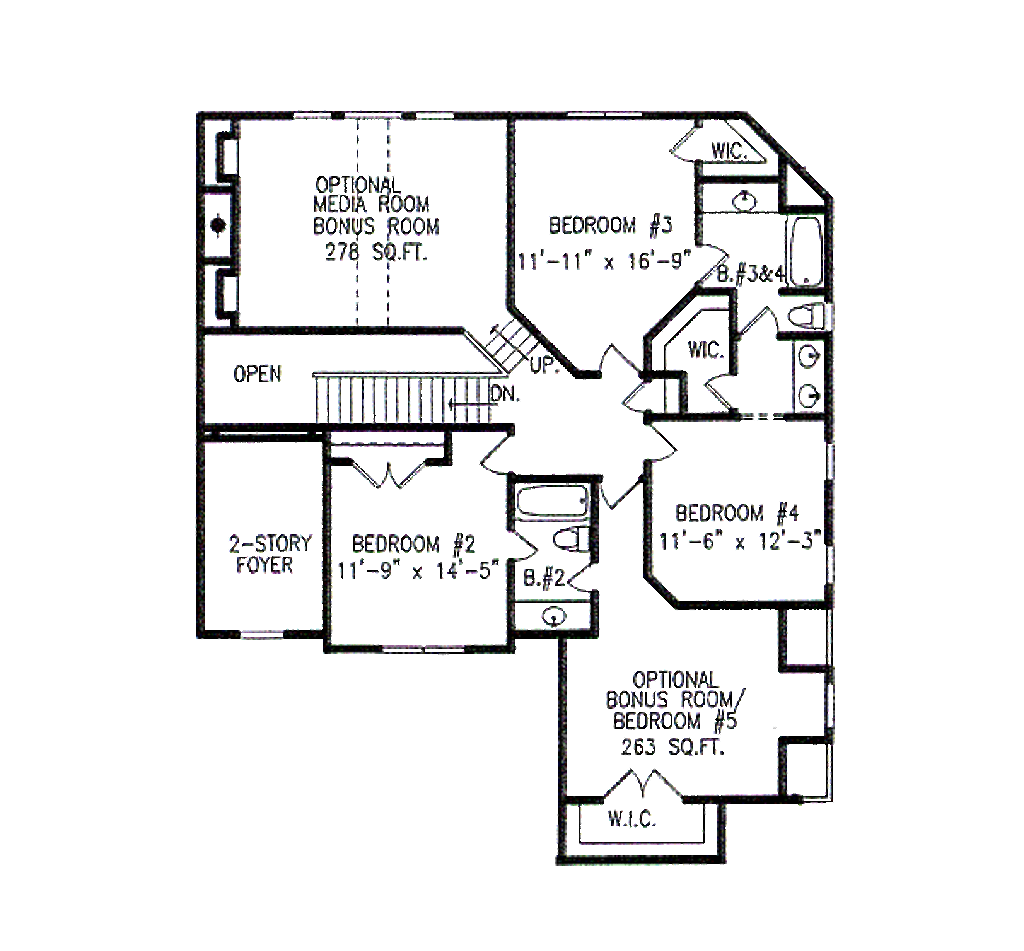door: (591, 761, 685, 807), (347, 459, 427, 490), (640, 423, 690, 466), (595, 474, 648, 513), (472, 431, 520, 473), (595, 338, 641, 379), (689, 243, 729, 287), (664, 125, 706, 160), (505, 524, 542, 563), (706, 364, 737, 409), (565, 561, 601, 597), (741, 306, 779, 338), (621, 374, 650, 415)
large_sink: (780, 290, 832, 332), (549, 518, 596, 562)
small_sink: (704, 183, 783, 217), (788, 340, 825, 409), (510, 607, 596, 632)
stairs: (306, 362, 518, 432), (456, 298, 551, 376)
tub: (783, 214, 830, 289), (507, 481, 591, 519)
window: (808, 534, 844, 587), (816, 672, 843, 735), (569, 105, 645, 126), (372, 640, 467, 656), (820, 443, 842, 485), (240, 627, 281, 640)
